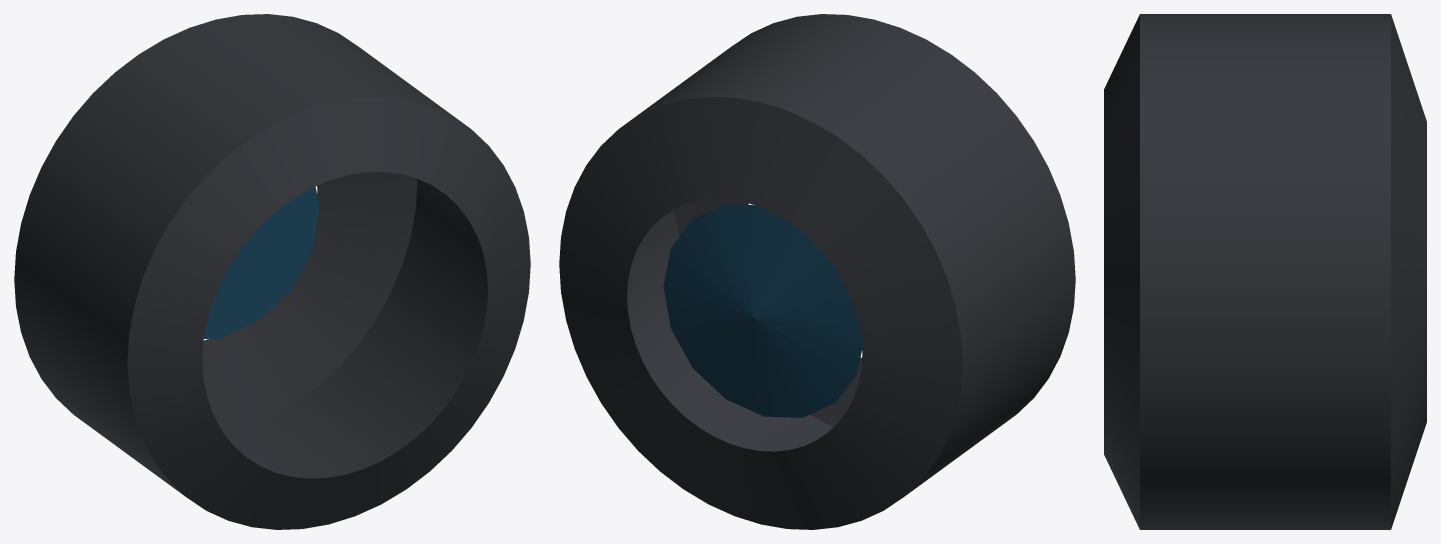
File: fl_lens_head.obj
The picture shows the model from 3 angles, left to right: view 1: azimuth 30°, elevation 25°; view 2: azimuth 150°, elevation 25°; view 3: azimuth 270°, elevation 25°; orthographic projection. The views are drawn at different scales.
Visible parts, largest first — view 1: fl_lens_head; view 2: fl_lens_head; view 3: fl_lens_head.
Boxes of the visible parts, x1,y1,x2,y2 form: fl_lens_head: (14, 14, 530, 529); fl_lens_head: (559, 14, 1075, 529); fl_lens_head: (1104, 14, 1426, 529).
Bounding box in the file's own units: 0.9 × 0.9 × 0.5625.
